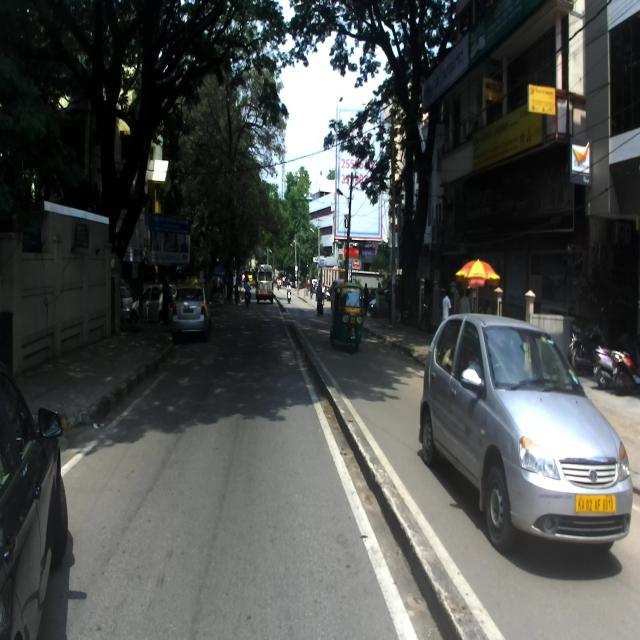autorickshaw: (328, 277, 366, 354)
car: (417, 313, 632, 550), (171, 284, 212, 342)
mini-bus: (254, 262, 274, 306)
scooter: (286, 287, 292, 303)
